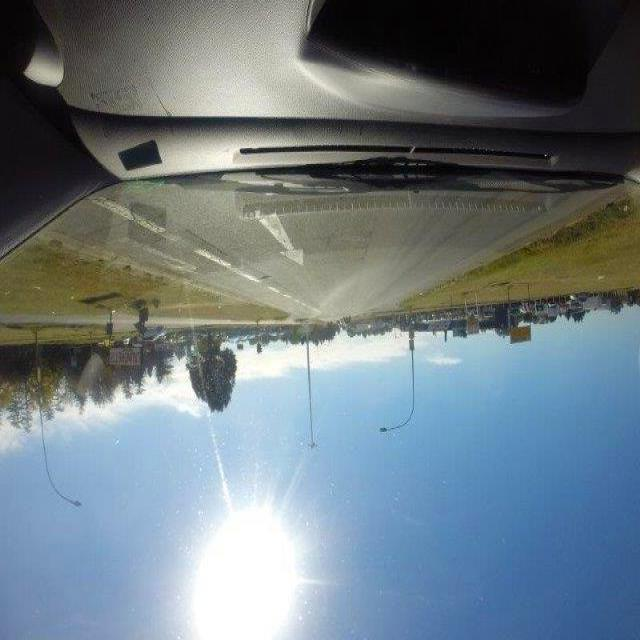jalan retak: (85, 220, 233, 282)
lubang: (256, 274, 273, 280)
